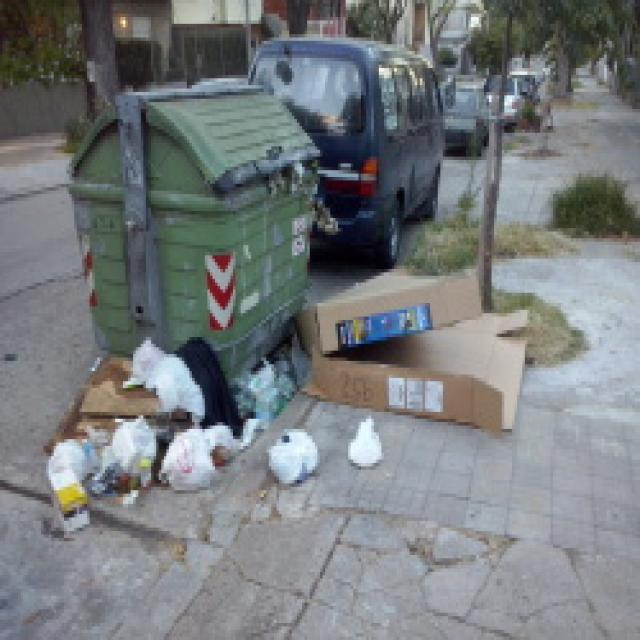garbage: (300, 268, 534, 436), (36, 330, 230, 521), (234, 351, 300, 436), (348, 410, 396, 478), (266, 422, 318, 480)
